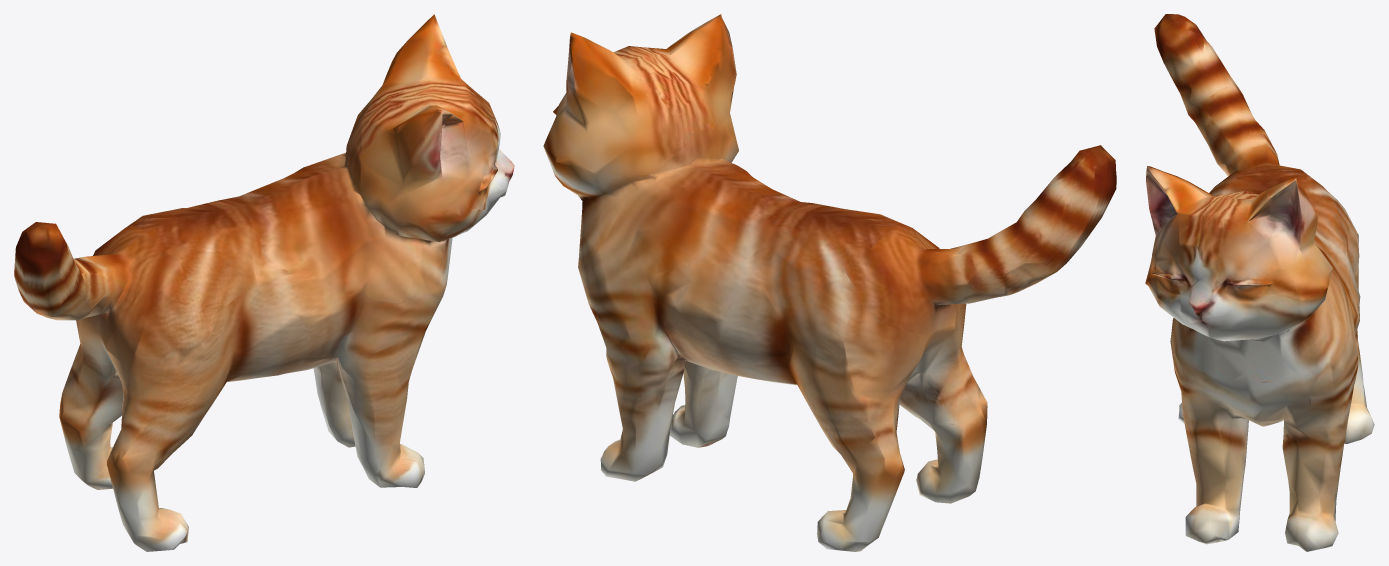
File: LATCHKEY-lo.glb
3 views of the same model, side by side, from view 1: azimuth 30°, elevation 25°; view 2: azimuth 150°, elevation 25°; view 3: azimuth 270°, elevation 25° (orthographic). The views are drawn at different scales.
Visible parts, largest first — view 1: fit; view 2: fit; view 3: fit.
Part boxes in pixels (x1,y1,x2,y2): fit: [14, 14, 514, 551]; fit: [543, 14, 1116, 551]; fit: [1145, 14, 1374, 551].
Bounding box in the file's own units: 1.28 × 0.9996 × 0.5238.
1 material, 1 textured.
